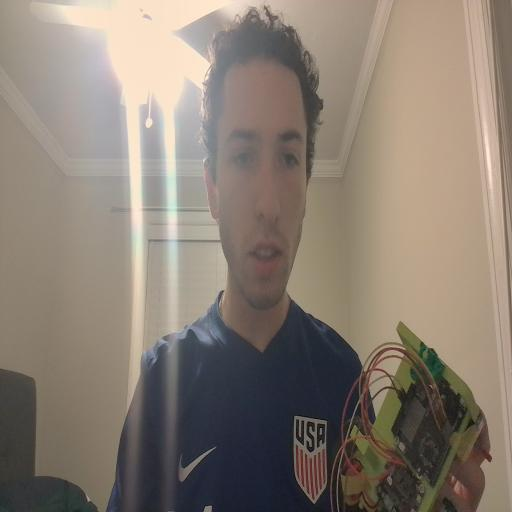green LEGO minifig: (410, 340, 446, 386)
